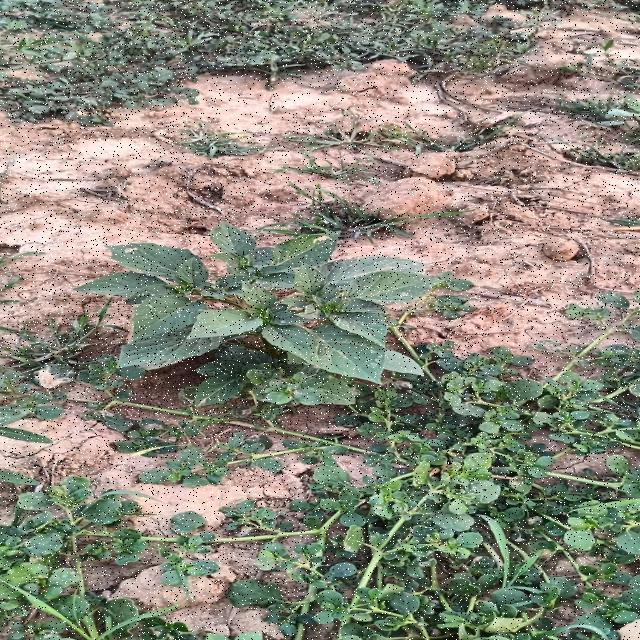weed: (76, 224, 447, 414)
